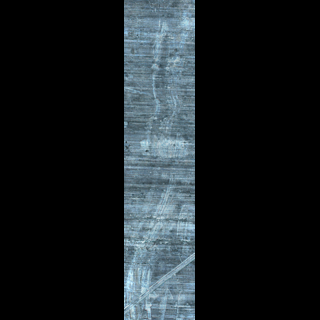d: (153, 15, 186, 158), (127, 248, 195, 317), (146, 173, 195, 246), (136, 128, 188, 162)
